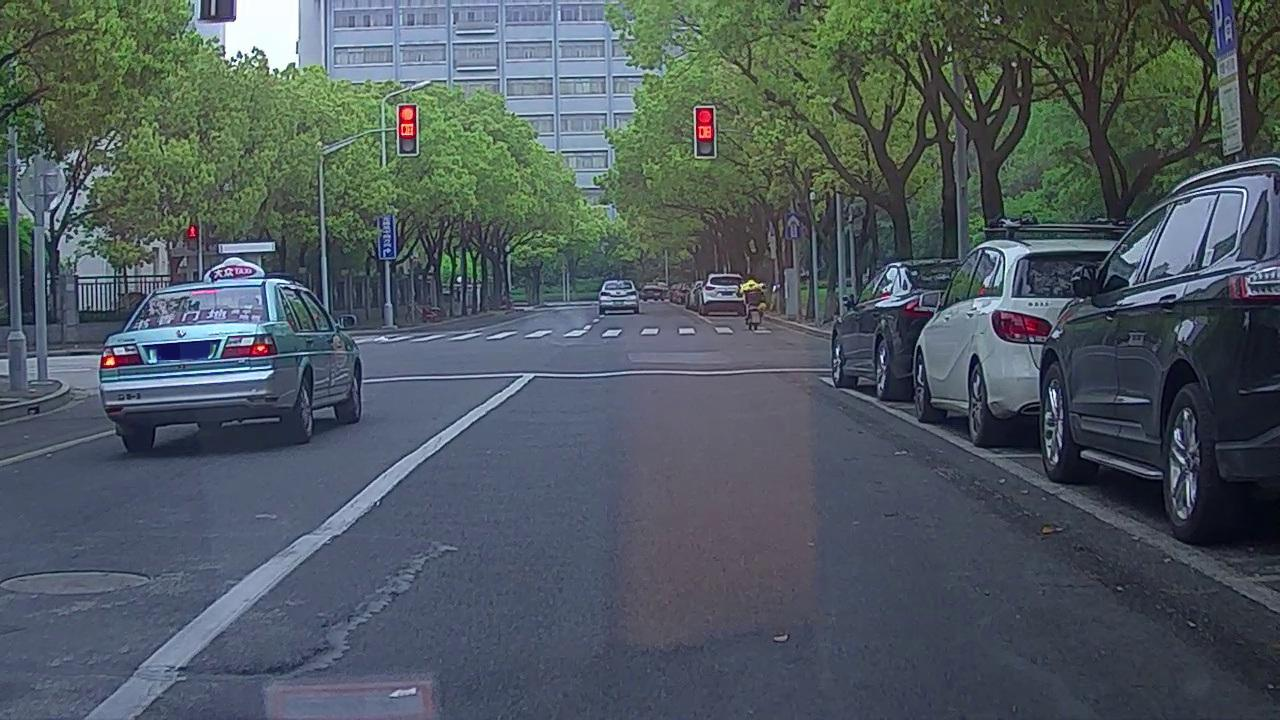traffic_light: (696, 107, 715, 158), (398, 106, 418, 154)
